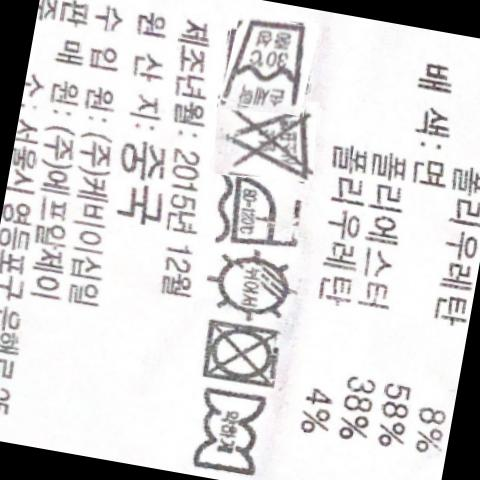DN_bleach: (225, 108, 318, 173)
DN_tumble_dry: (200, 320, 286, 387)
dry_flat_in_shade: (207, 253, 296, 316)
hand_wash: (227, 20, 311, 107)
iron_low: (214, 176, 317, 249)
wring: (192, 389, 266, 474)
